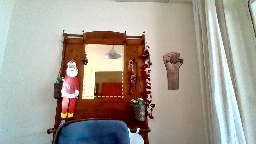Pugno: (161, 50, 184, 71)
